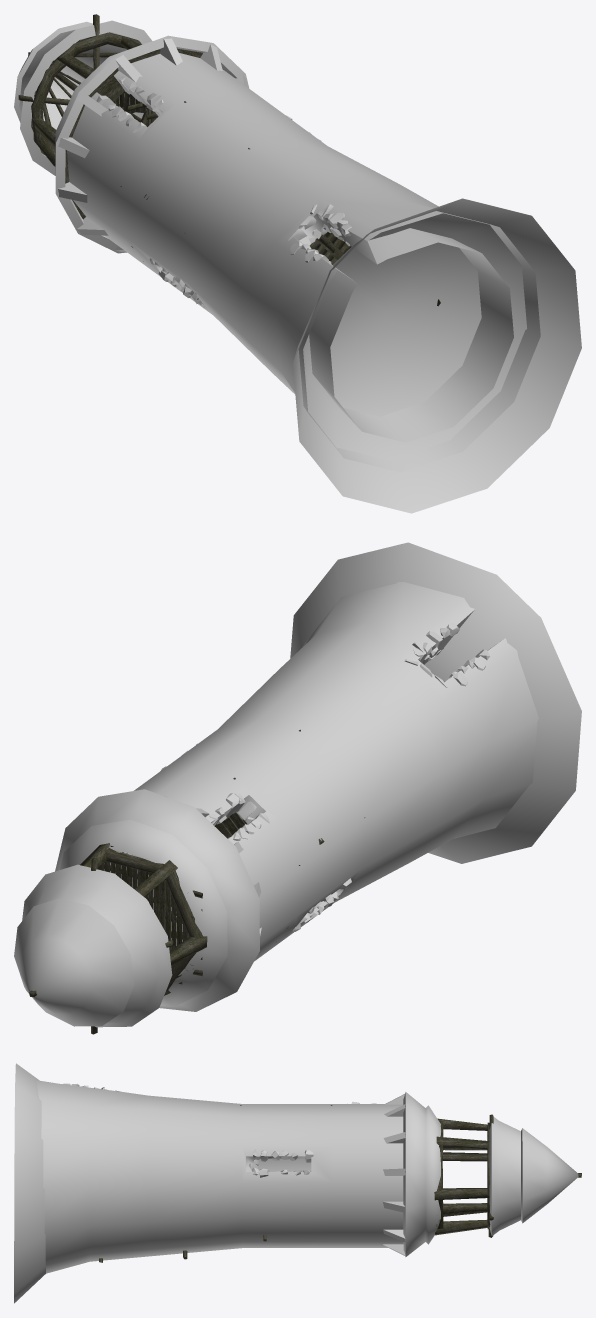
Rendered from TI_Tower_01.fbx.
3 views of the same model, one above another, from view 1: azimuth 30°, elevation 25°; view 2: azimuth 150°, elevation 25°; view 3: azimuth 270°, elevation 25° (orthographic). The views are drawn at different scales.
Visible parts, largest first — view 1: TI_Tower_Wall, TI_Tower_Roof, TI_Tower_WFrame; view 2: TI_Tower_Wall, TI_Tower_Roof, TI_Tower_WFrame; view 3: TI_Tower_Wall, TI_Tower_Roof, TI_Tower_WFrame.
Part boxes in pixels (box(x1,y1,x2,y2)): TI_Tower_Wall: box(58, 38, 581, 513); TI_Tower_Roof: box(14, 20, 249, 253); TI_Tower_WFrame: box(18, 14, 440, 306); TI_Tower_Wall: box(104, 542, 581, 961); TI_Tower_Roof: box(14, 789, 259, 1027); TI_Tower_WFrame: box(29, 729, 365, 1034); TI_Tower_Wall: box(14, 1063, 405, 1303); TI_Tower_Roof: box(403, 1092, 578, 1256); TI_Tower_WFrame: box(99, 1105, 581, 1262).
Bounding box in the file's own units: 17.81 × 17.81 × 42.86.
